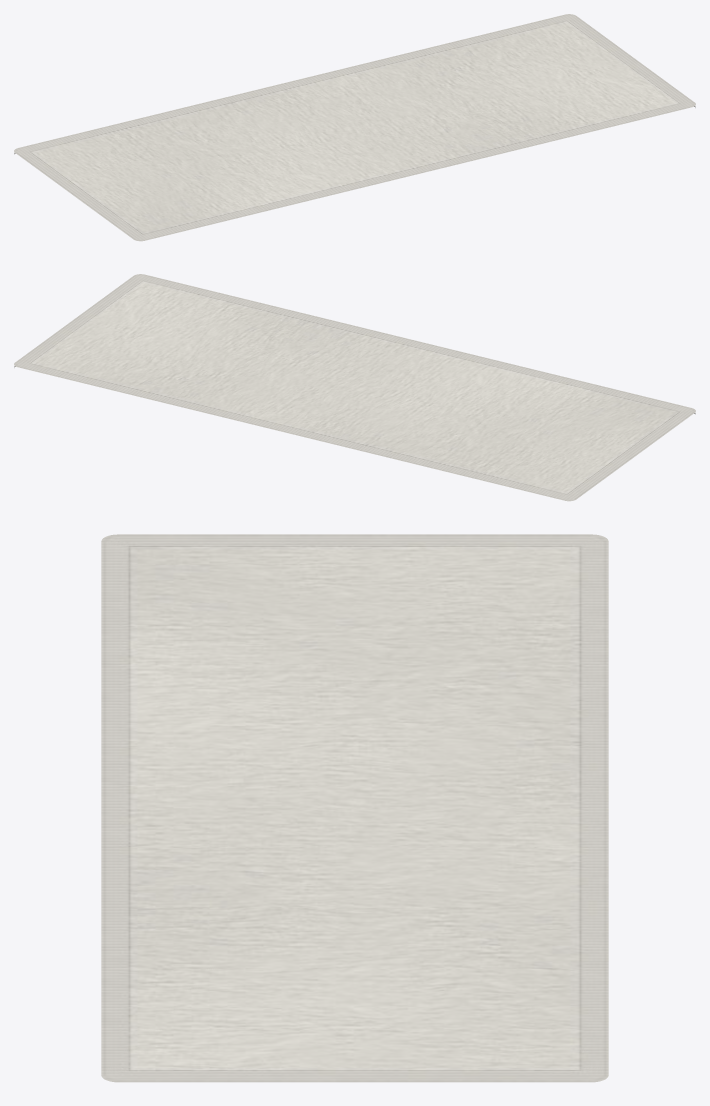
The model's file is ivory_kitchen_r90.glb.
3 views of the same model, one above another, from view 1: azimuth 30°, elevation 25°; view 2: azimuth 150°, elevation 25°; view 3: azimuth 270°, elevation 25° (orthographic). The views are drawn at different scales.
Visible parts, largest first — view 1: reliv_ivory_kitchen_r90; view 2: reliv_ivory_kitchen_r90; view 3: reliv_ivory_kitchen_r90.
Boxes of the visible parts, x1,y1,x2,y2 form: reliv_ivory_kitchen_r90: (14, 14, 695, 241); reliv_ivory_kitchen_r90: (14, 274, 695, 501); reliv_ivory_kitchen_r90: (101, 534, 608, 1082).
Size of the model in its own units: 1.15 by 0.009 by 0.45.
2 materials, 1 textured.
